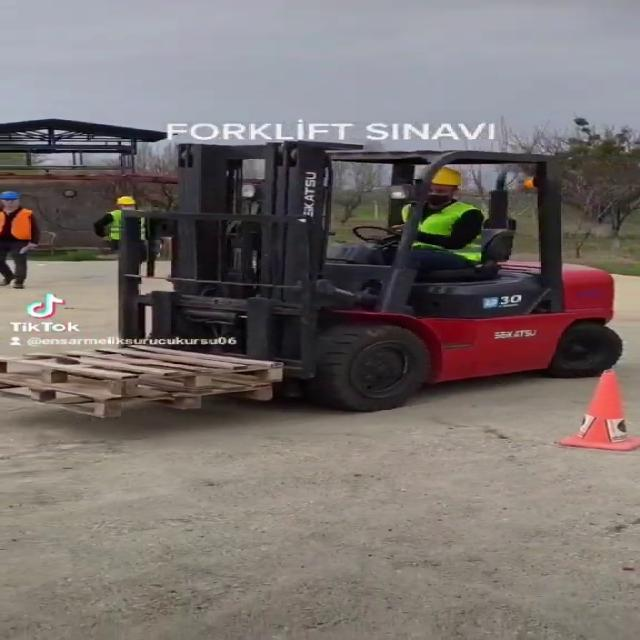ForkLift: (18, 140, 616, 418)
